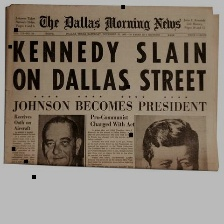news_paper: (3, 2, 223, 171)
